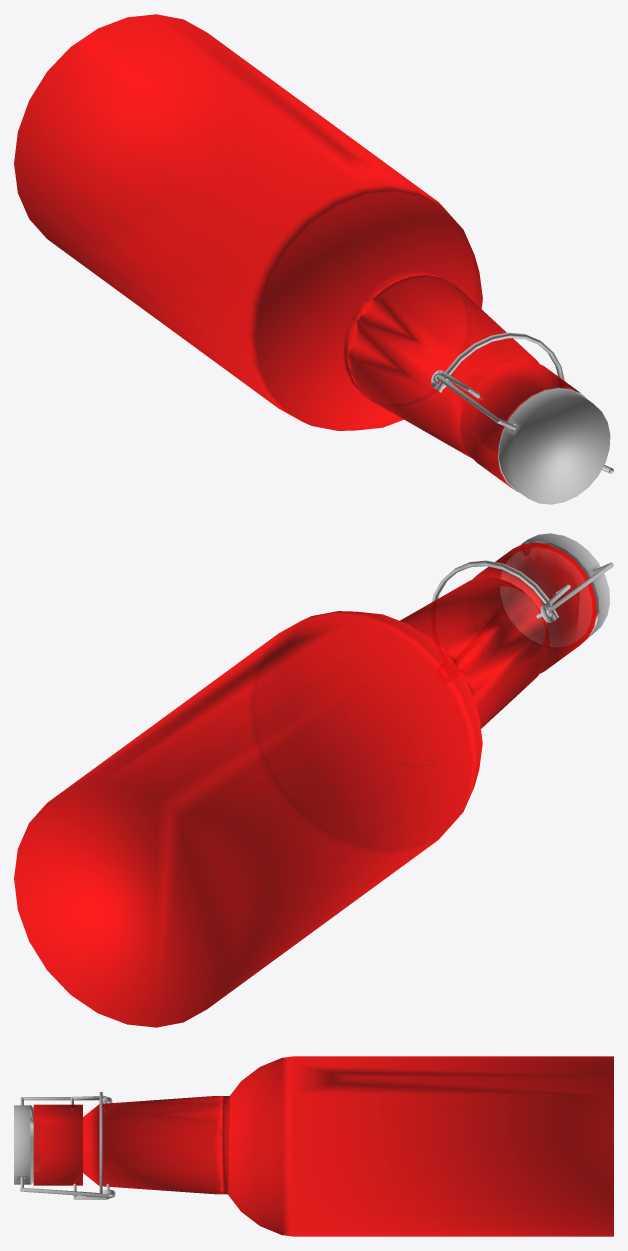
File: model_align.obj
The picture shows the model from 3 angles, top to bottom: view 1: azimuth 30°, elevation 25°; view 2: azimuth 150°, elevation 25°; view 3: azimuth 270°, elevation 25°; orthographic projection. The views are drawn at different scales.
Visible parts, largest first — view 1: mesh1_mesh1-geometry, mesh2_mesh2-geometry, mesh7_mesh7-geometry; view 2: mesh1_mesh1-geometry, mesh2_mesh2-geometry, mesh7_mesh7-geometry; view 3: mesh1_mesh1-geometry, mesh2_mesh2-geometry, mesh4_mesh4-geometry, mesh7_mesh7-geometry.
Part boxes in pixels (x1,y1,x2,y2): mesh1_mesh1-geometry: (14,14,482,430); mesh2_mesh2-geometry: (343,270,610,504); mesh7_mesh7-geometry: (436,332,564,392); mesh1_mesh1-geometry: (14,611,482,1027); mesh2_mesh2-geometry: (343,533,609,766); mesh7_mesh7-geometry: (432,560,558,618); mesh1_mesh1-geometry: (215,1056,613,1236); mesh2_mesh2-geometry: (14,1096,229,1199); mesh4_mesh4-geometry: (20,1182,109,1197); mesh7_mesh7-geometry: (99,1092,102,1193).
Bounding box in the file's own units: 0.0446 × 0.0446 × 0.1479.
